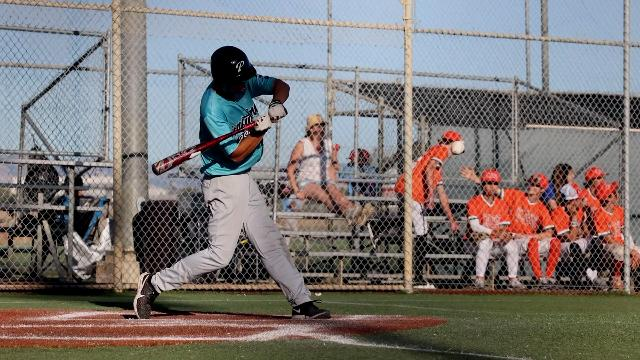bat: (152, 124, 256, 176), (452, 142, 464, 156)
